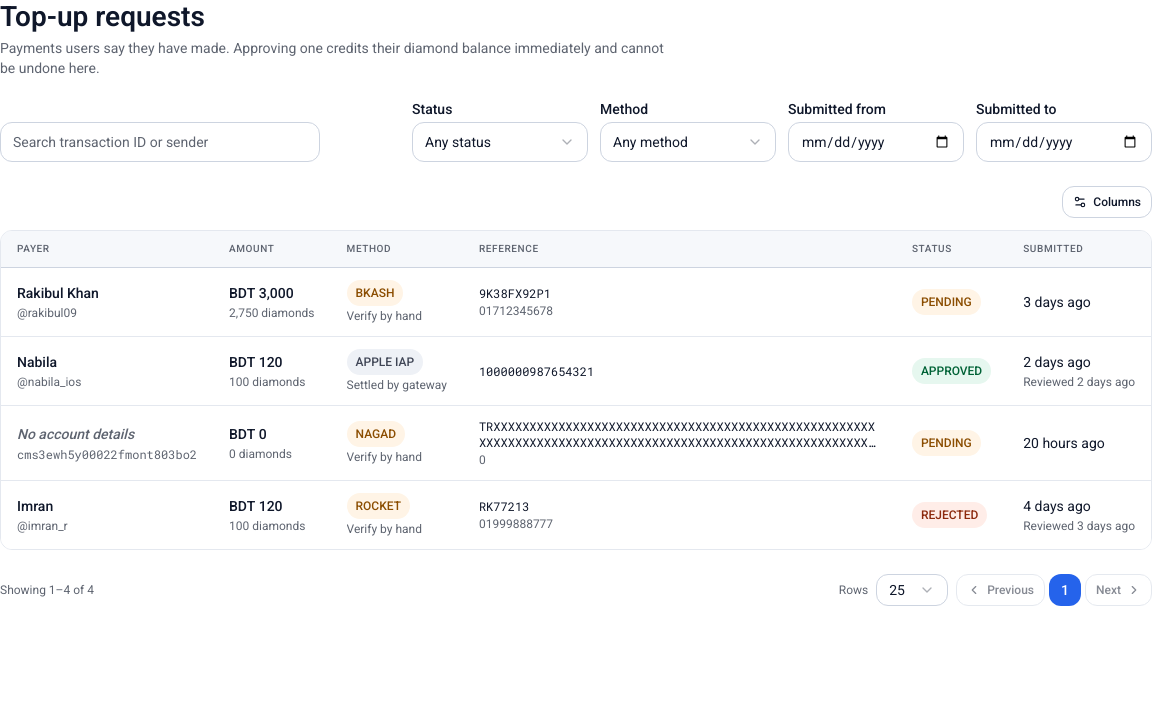
Test: the drawer › offers no decisions on a payment already reviewed
This screenshot has width=1152, height=720.
Click the text "Nabila".
click(37, 362)  # box [17,354,57,370]
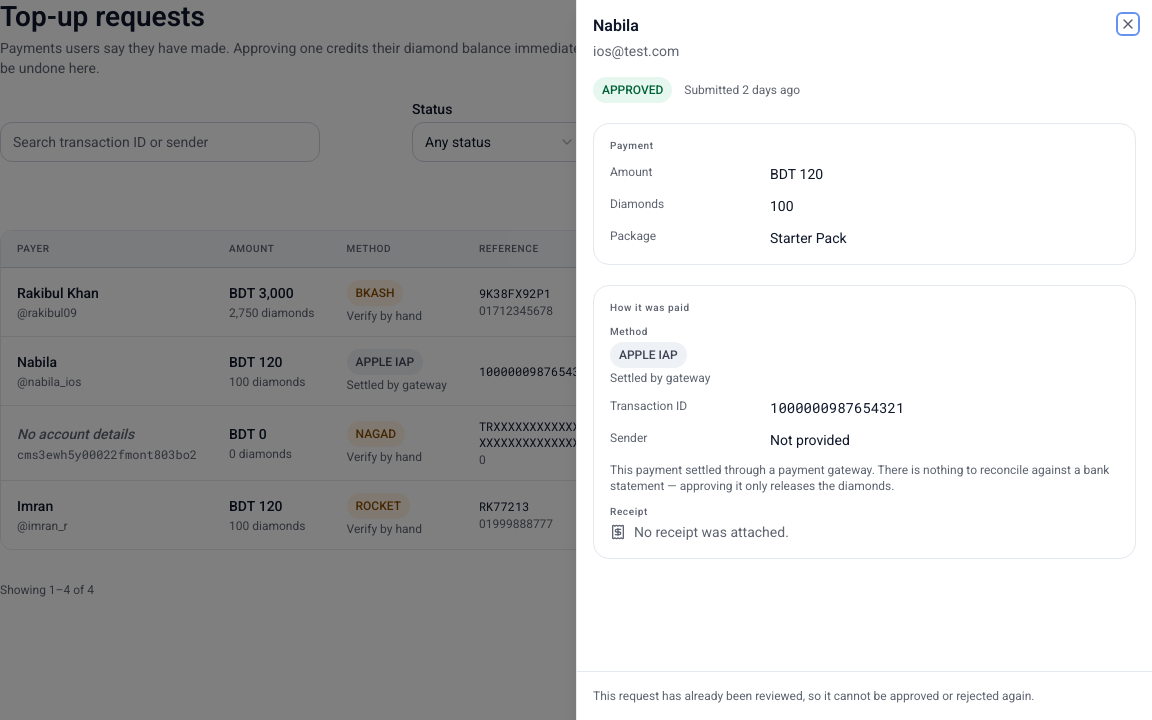
Expected: the heading "Payment" is shown, [610,140,654,151]
Expected: the text "already been reviewed" is shown, [593,689,1034,703]
